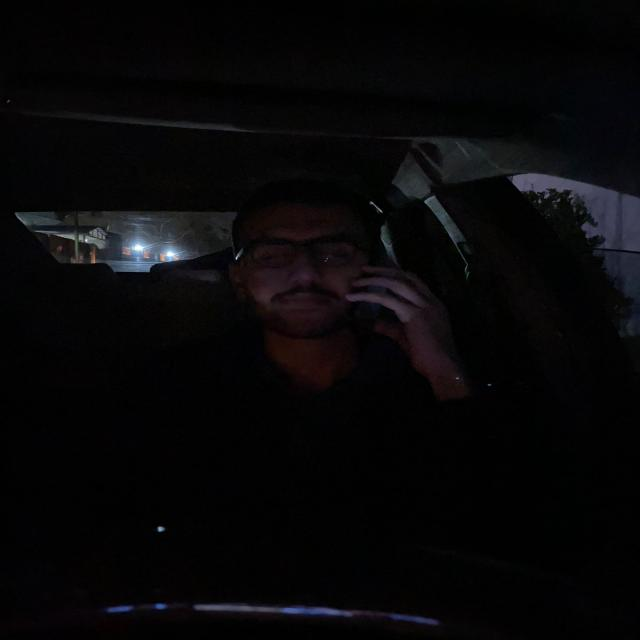mobile: (367, 256, 409, 351)
person: (233, 191, 368, 329)
